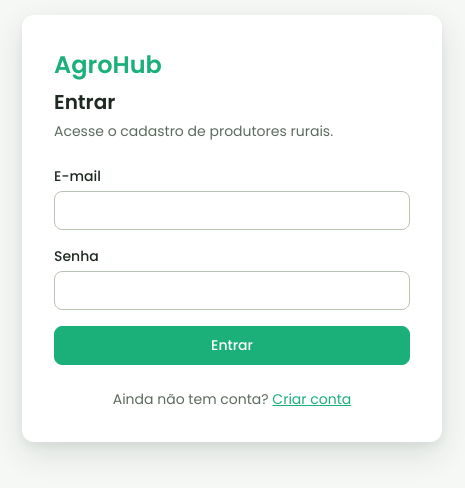
Test case: SignIn › refuses a malformed e-mail before sending anything
The width and height of the screenshot is (465, 488).
Type "nao-e-um-email" into the field labelled "E-mail" at point(232, 210), box [54,190,410,230]
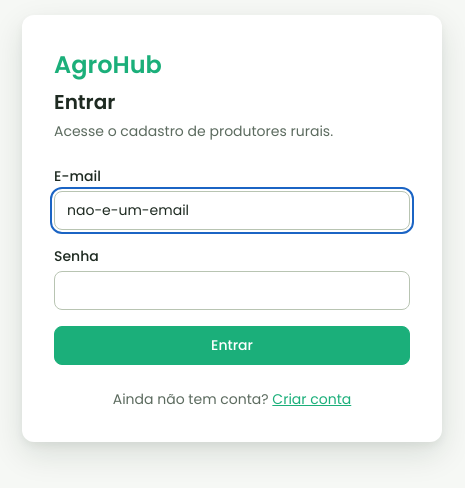
Type "SenhaSegura1" into the password field labelled "Senha" at point(232, 290), box [54,270,410,310]
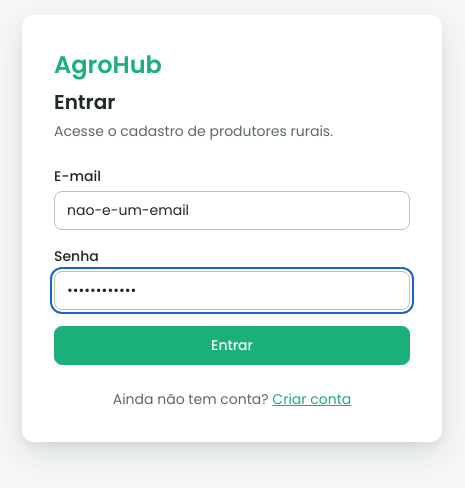
Click the button "Entrar" at point(232, 345), box [54,326,410,364]
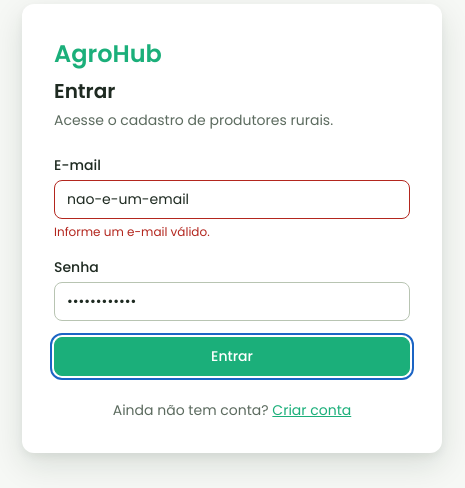
Now the text "Informe um e-mail válido." is shown, box [54,222,210,240]
